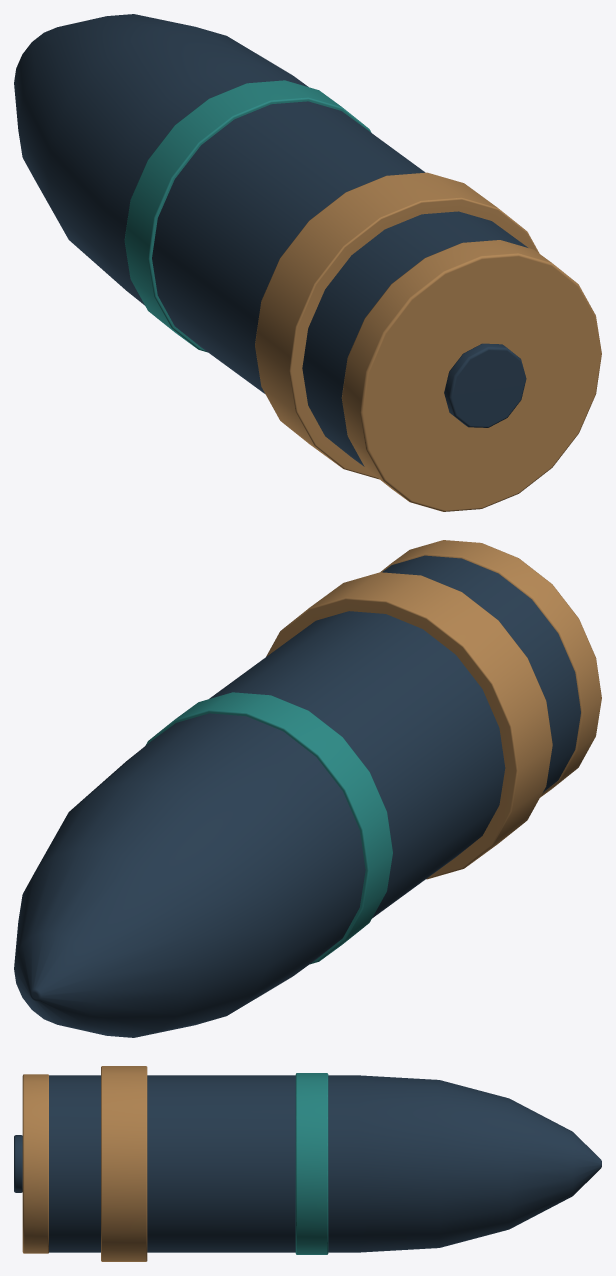
File: naval_shell.glb
The picture shows the model from 3 angles, top to bottom: view 1: azimuth 30°, elevation 25°; view 2: azimuth 150°, elevation 25°; view 3: azimuth 270°, elevation 25°; orthographic projection. The views are drawn at different scales.
Visible parts, largest first — view 1: naval_shell__ogive_body, naval_shell__base_plate, naval_shell__driving_band, naval_shell__identity_band, naval_shell__base_mark; view 2: naval_shell__ogive_body, naval_shell__driving_band, naval_shell__identity_band, naval_shell__base_plate; view 3: naval_shell__ogive_body, naval_shell__driving_band, naval_shell__identity_band, naval_shell__base_plate, naval_shell__base_mark.
Part boxes in pixels (x1=…): naval_shell__ogive_body: x1=14, y1=14, x2=527, y2=466; naval_shell__base_plate: x1=341, y1=240, x2=601, y2=511; naval_shell__driving_band: x1=255, y1=172, x2=539, y2=479; naval_shell__identity_band: x1=124, y1=80, x2=371, y2=352; naval_shell__base_mark: x1=444, y1=343, x2=526, y2=427; naval_shell__ogive_body: x1=14, y1=555, x2=580, y2=1037; naval_shell__driving_band: x1=266, y1=572, x2=552, y2=879; naval_shell__identity_band: x1=145, y1=692, x2=392, y2=964; naval_shell__base_plate: x1=380, y1=540, x2=601, y2=797; naval_shell__ogive_body: x1=49, y1=1075, x2=601, y2=1252; naval_shell__driving_band: x1=101, y1=1066, x2=147, y2=1261; naval_shell__identity_band: x1=295, y1=1073, x2=328, y2=1254; naval_shell__base_plate: x1=22, y1=1074, x2=48, y2=1253; naval_shell__base_mark: x1=14, y1=1135, x2=22, y2=1192.
Bounding box in the file's own units: 0.17 × 0.17 × 0.507.
